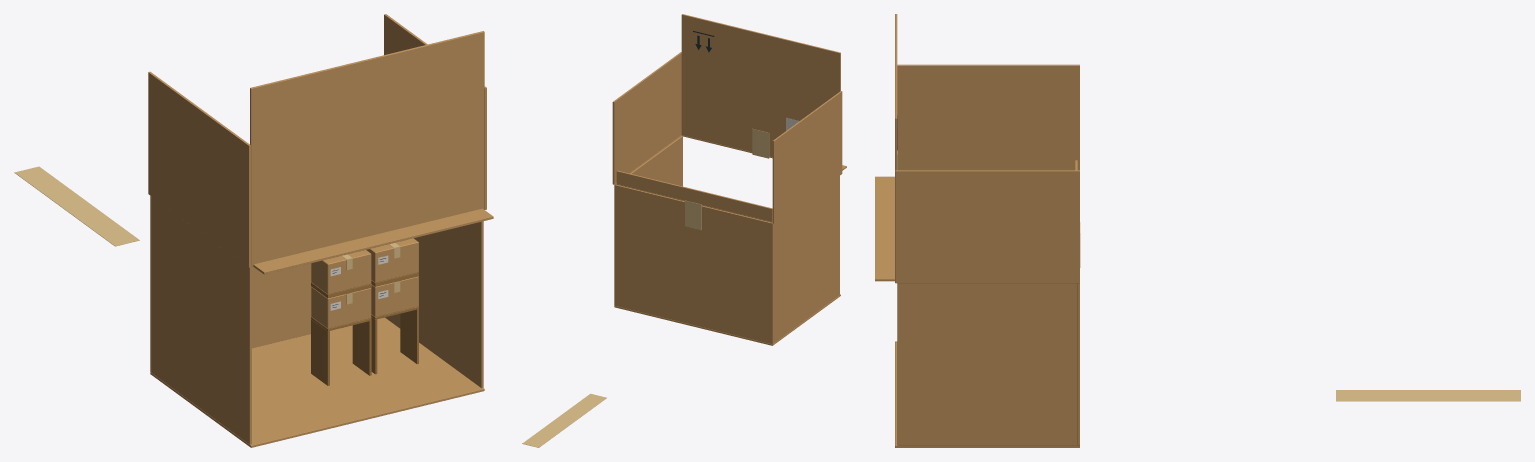
File: small-case-open-partial.glb
3 renders of one model, left to right at view 1: azimuth 30°, elevation 25°; view 2: azimuth 150°, elevation 25°; view 3: azimuth 270°, elevation 25°, orthographic. The views are drawn at different scales.
Parts seen in each view (by area): view 1: small-case-open-partial__batch_17, small-case-open-partial__batch_20, small-case-open-partial__batch_22, small-case-open-partial__batch_00, small-case-open-partial__batch_26, small-case-open-partial__batch_07, small-case-open-partial__batch_03, small-case-open-partial__batch_15, small-case-open-partial__batch_11, small-case-open-partial__batch_23; view 2: small-case-open-partial__batch_17, small-case-open-partial__batch_20, small-case-open-partial__batch_22, small-case-open-partial__batch_23, small-case-open-partial__batch_24, small-case-open-partial__batch_26, small-case-open-partial__batch_21, small-case-open-partial__batch_25; view 3: small-case-open-partial__batch_17, small-case-open-partial__batch_23, small-case-open-partial__batch_22, small-case-open-partial__batch_20, small-case-open-partial__batch_26.
Boxes of the visible parts, <box> form: small-case-open-partial__batch_17: <box>150,196,484,447</box>; small-case-open-partial__batch_20: <box>250,31,493,274</box>; small-case-open-partial__batch_22: <box>148,71,250,267</box>; small-case-open-partial__batch_00: <box>311,272,418,385</box>; small-case-open-partial__batch_26: <box>14,166,139,246</box>; small-case-open-partial__batch_07: <box>311,250,371,294</box>; small-case-open-partial__batch_03: <box>311,287,371,328</box>; small-case-open-partial__batch_15: <box>366,238,418,282</box>; small-case-open-partial__batch_11: <box>371,276,418,316</box>; small-case-open-partial__batch_23: <box>384,14,486,209</box>; small-case-open-partial__batch_17: <box>614,135,840,345</box>; small-case-open-partial__batch_20: <box>681,14,846,170</box>; small-case-open-partial__batch_22: <box>772,91,842,223</box>; small-case-open-partial__batch_23: <box>612,52,681,184</box>; small-case-open-partial__batch_24: <box>616,170,772,221</box>; small-case-open-partial__batch_26: <box>522,393,606,447</box>; small-case-open-partial__batch_21: <box>752,128,769,158</box>; small-case-open-partial__batch_25: <box>685,200,701,230</box>; small-case-open-partial__batch_17: <box>895,283,1079,447</box>; small-case-open-partial__batch_23: <box>895,170,1079,283</box>; small-case-open-partial__batch_22: <box>897,64,1079,170</box>; small-case-open-partial__batch_20: <box>875,14,897,281</box>; small-case-open-partial__batch_26: <box>1336,390,1520,401</box>.
Size of the model in its own units: 0.326 by 0.47 by 0.835.
